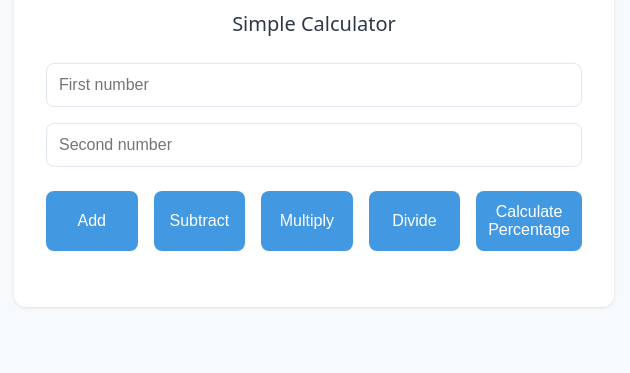
Calculator Component › should perform division correctly
Type "4" into the number field with test id "num1-input". click: point(314, 85)
box: [46,63,582,107]
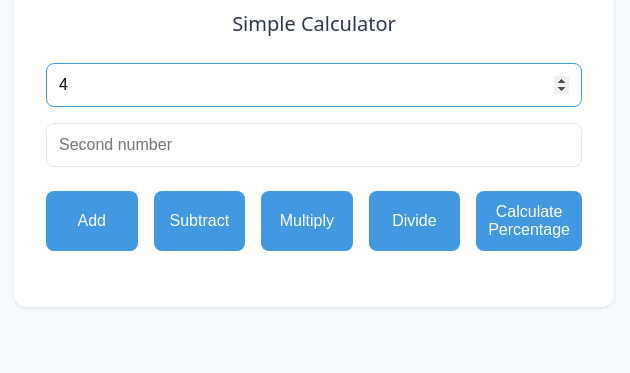
Type "2" into the number field with test id "num2-input". click: point(314, 145)
box: [46,123,582,167]
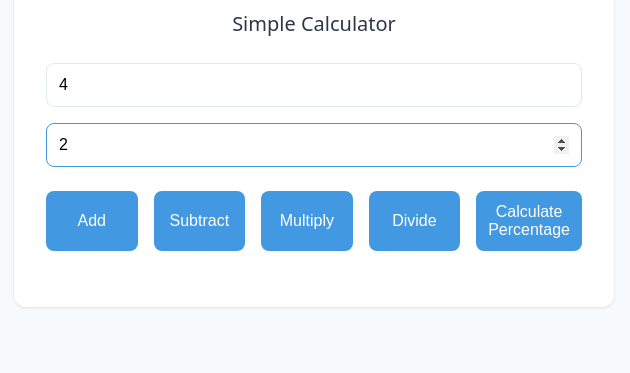
Click the button with test id "divide-button". click: point(414, 221)
box: [369,191,460,251]
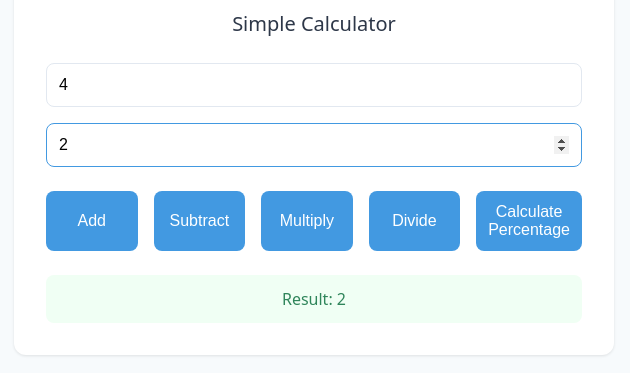
Result: the text with test id "result" reads "Result: 2" at [46,275,582,323]
